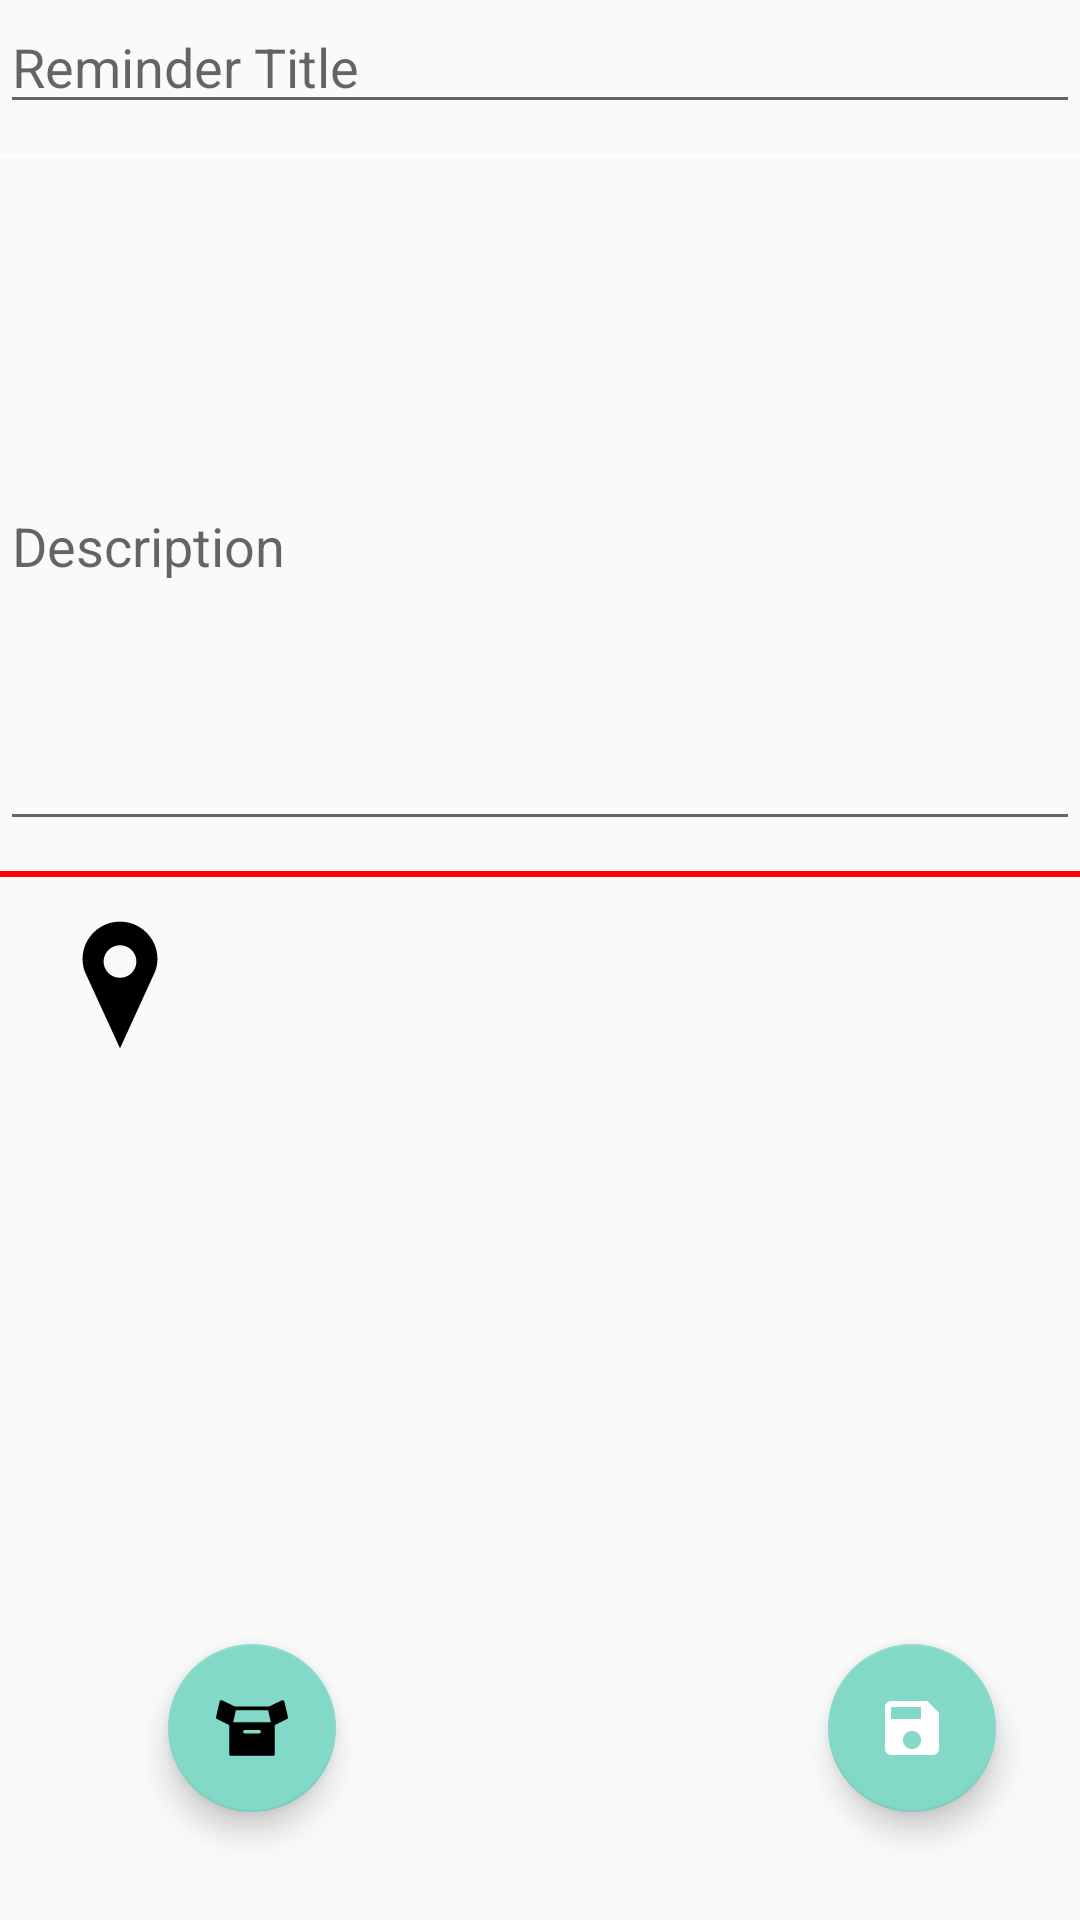

Screen size 1080x1920. Icon name, then its box in pixels as (x1=x1, y1=y1, x2=x2, y2=y2):
location: (x1=82, y1=921, x2=158, y2=1048)
save: (x1=828, y1=1644, x2=996, y2=1812)
